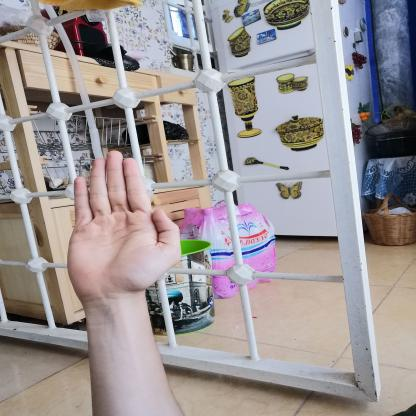SEEN: (55, 142, 193, 308)
